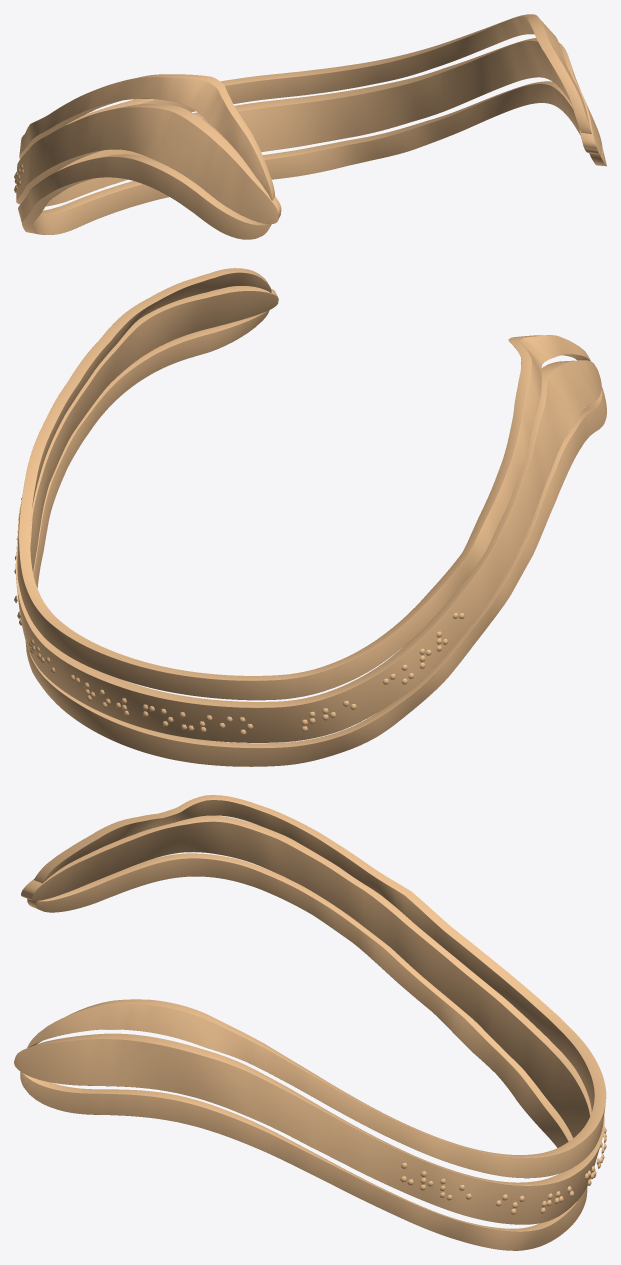
The model's file is circlet-g.glb.
The picture shows the model from 3 angles, top to bottom: view 1: azimuth 30°, elevation 25°; view 2: azimuth 150°, elevation 25°; view 3: azimuth 270°, elevation 25°; orthographic projection. The views are drawn at different scales.
Visible parts, largest first — view 1: crown-body; view 2: crown-body, braille-dots; view 3: crown-body, braille-dots.
Boxes of the visible parts, left/top/right/bottom form: crown-body: left=16, top=14, right=606, bottom=239; crown-body: left=15, top=268, right=606, bottom=766; braille-dots: left=14, top=498, right=464, bottom=735; crown-body: left=14, top=795, right=606, bottom=1250; braille-dots: left=400, top=1127, right=606, bottom=1214.
Size of the model in its own units: 0.1748 by 0.1063 by 0.1857.
